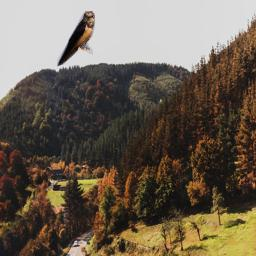Swallow: (57, 11, 95, 67)
